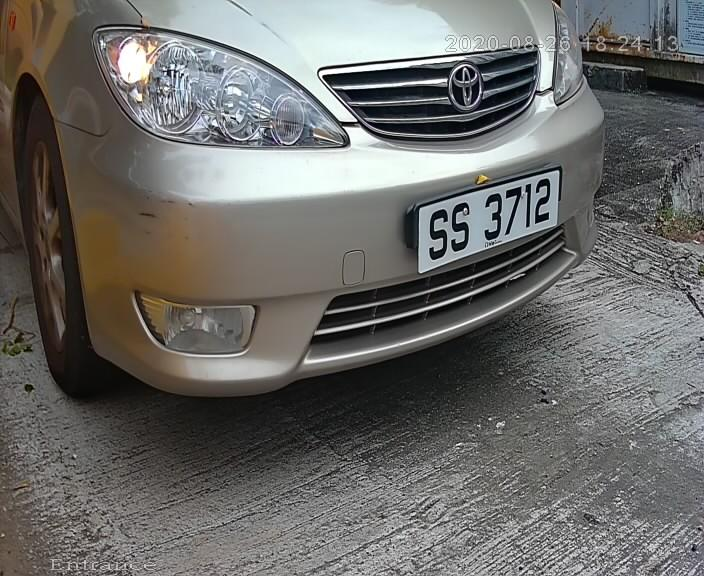License Plate: (403, 152, 573, 280)
